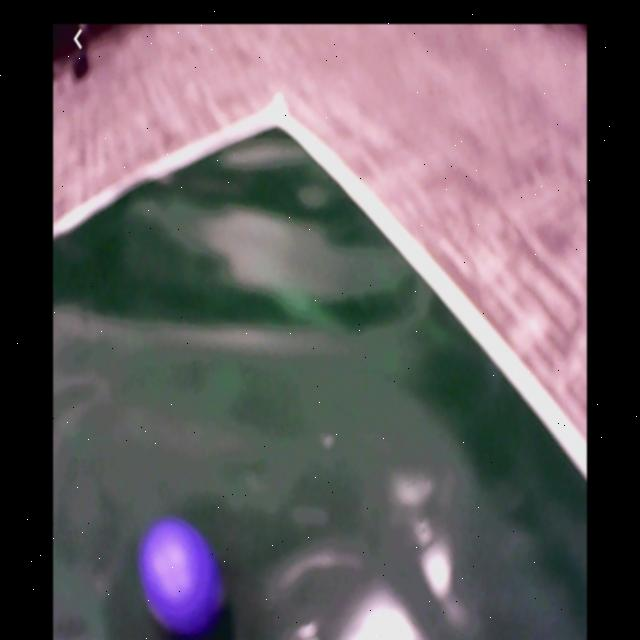ball: (142, 512, 224, 640)
